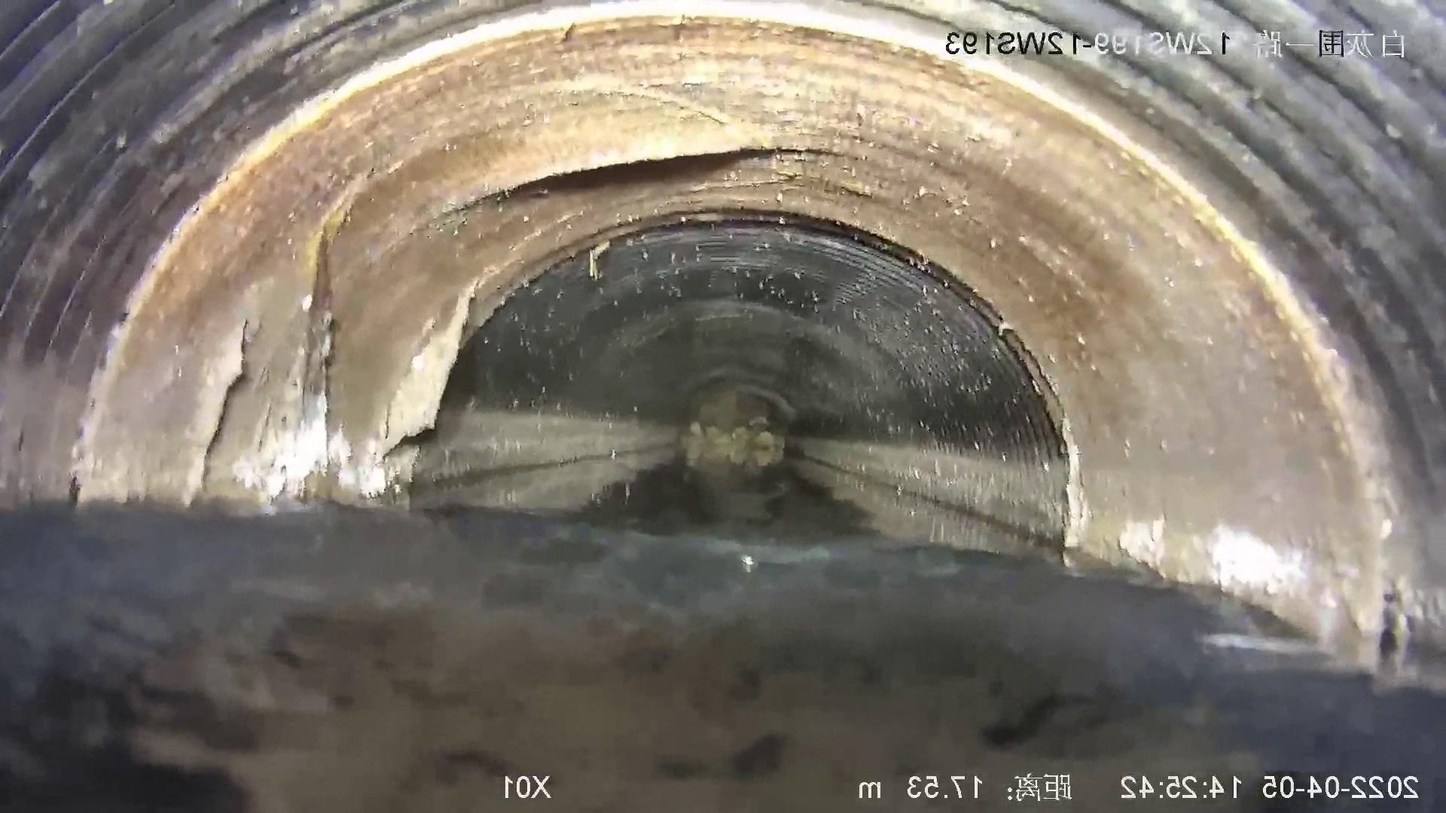PL: (413, 114, 791, 245)
